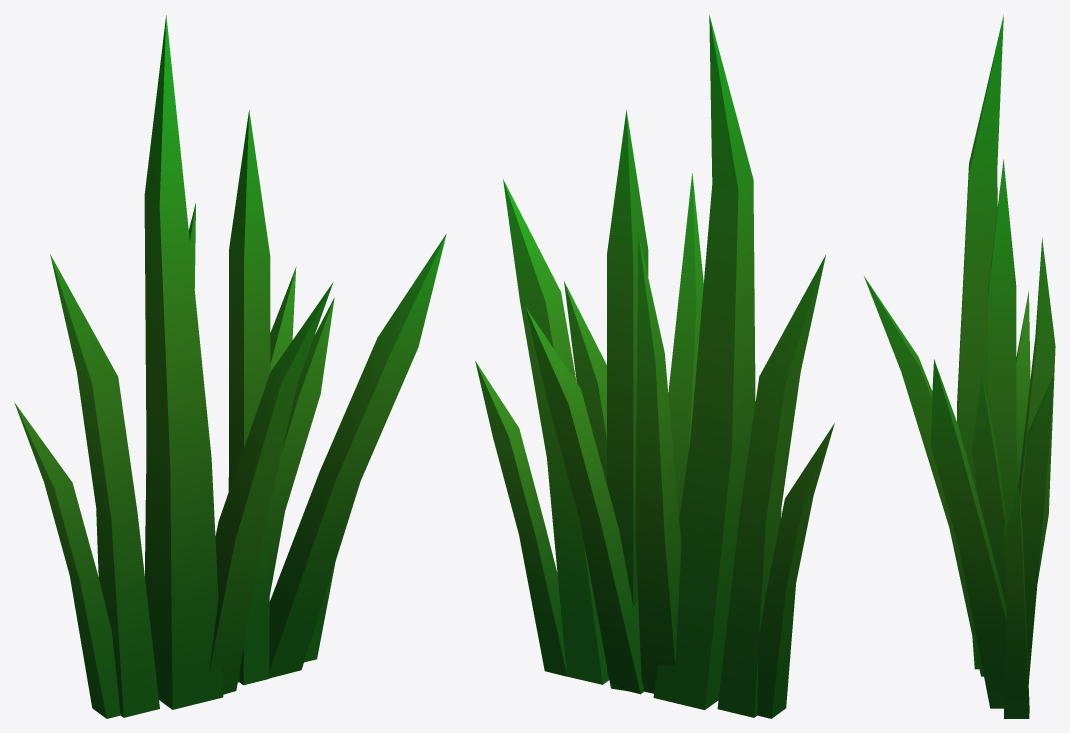
File: BigGrass.FBX
3 renders of one model, left to right at view 1: azimuth 30°, elevation 25°; view 2: azimuth 150°, elevation 25°; view 3: azimuth 270°, elevation 25°, orthographic. The views are drawn at different scales.
Parts seen in each view (by area): view 1: Box007; view 2: Box007; view 3: Box007.
Boxes of the visible parts, <box> form: Box007: <box>14,15,446,718</box>; Box007: <box>475,15,834,718</box>; Box007: <box>864,14,1055,718</box>.
Bounding box in the file's own units: 23.11 × 39.55 × 10.79.
